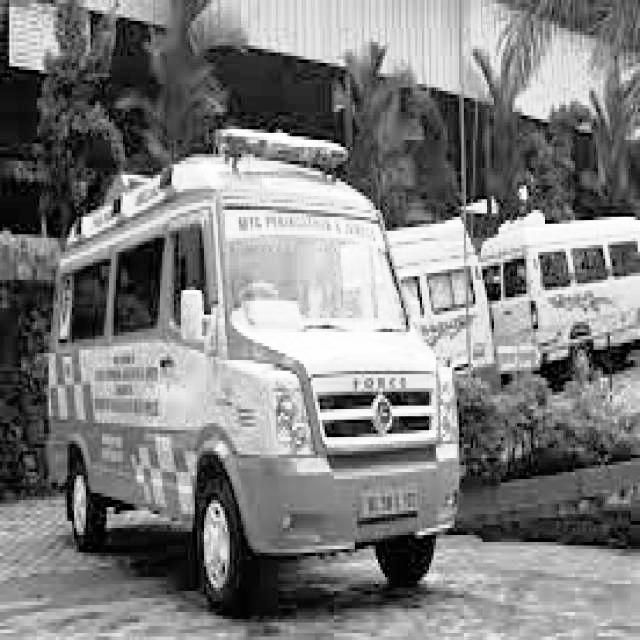LCV: (192, 128, 461, 560)
